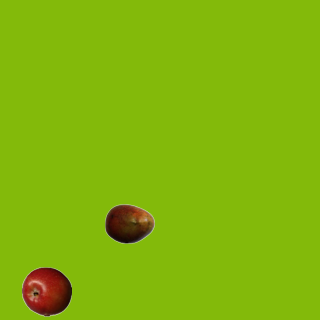Apple Braeburn: (21, 266, 71, 316)
Mango Red: (104, 198, 154, 248)
